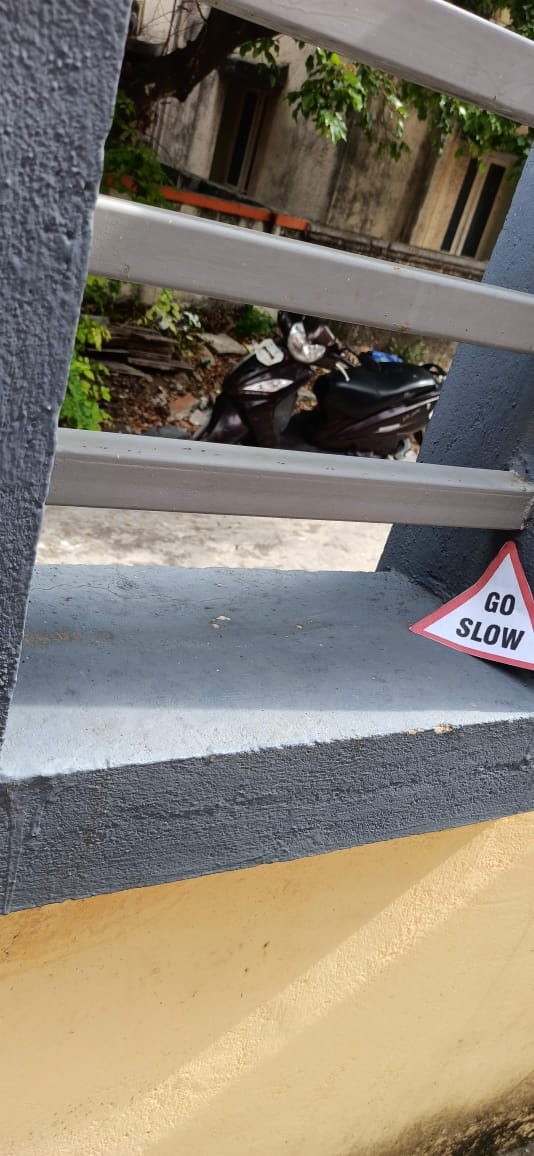GO SLOW: (398, 529, 534, 669)
